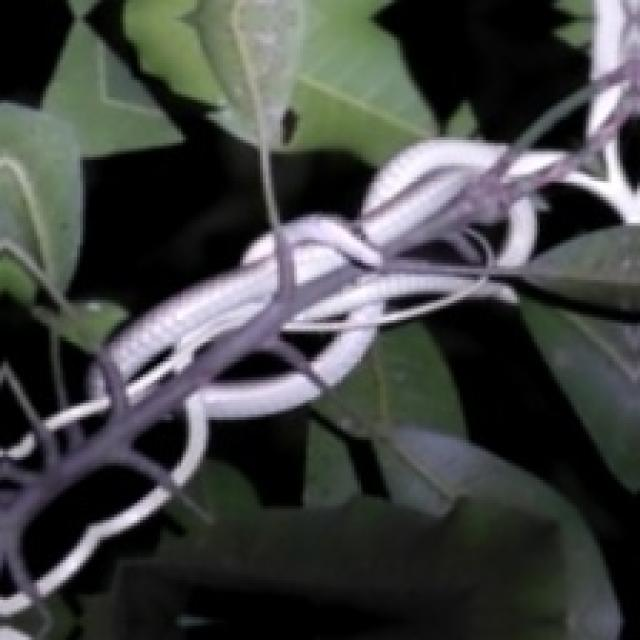paradise tree snake: (0, 280, 637, 637), (0, 0, 266, 443), (271, 0, 597, 220), (529, 117, 637, 254), (0, 411, 103, 511)
